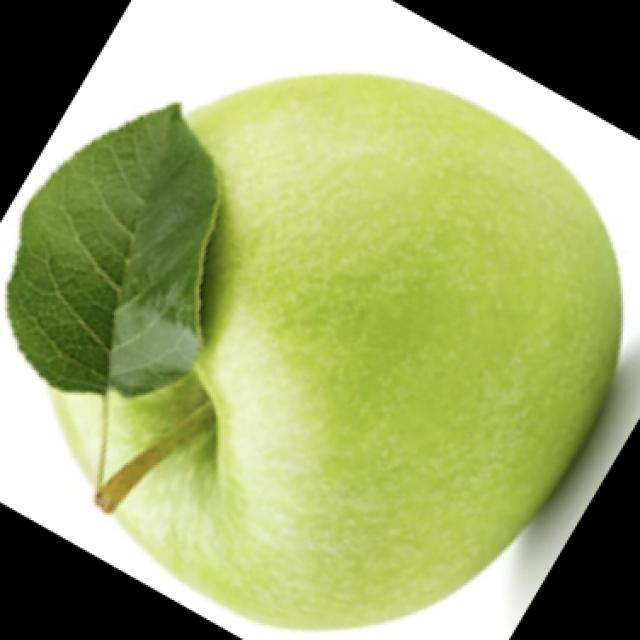Fresh Apple: (74, 85, 628, 592)
